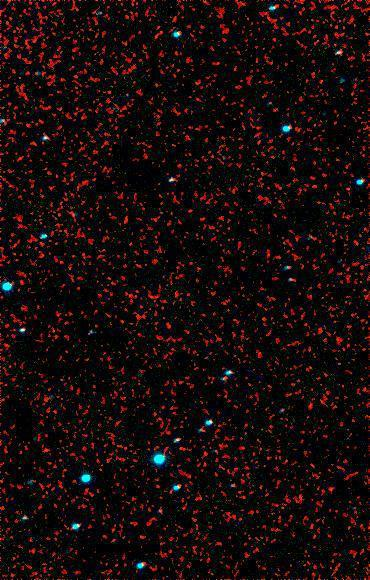star: (188, 439, 218, 469)
